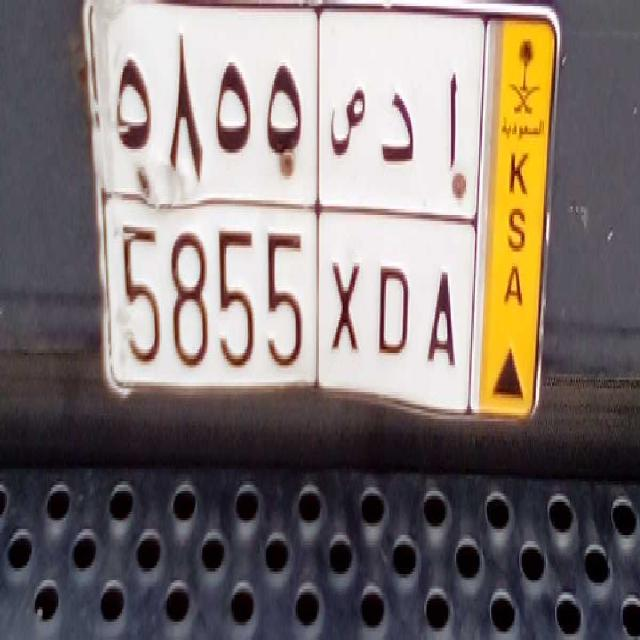license_plate: (99, 189, 471, 409)
